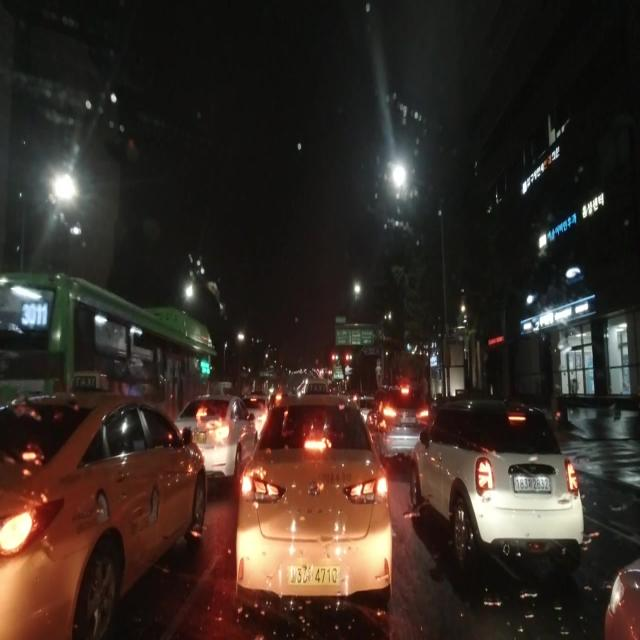Car: (1, 400, 200, 639), (230, 396, 389, 621), (405, 392, 582, 563), (184, 391, 248, 474), (371, 384, 429, 449)
